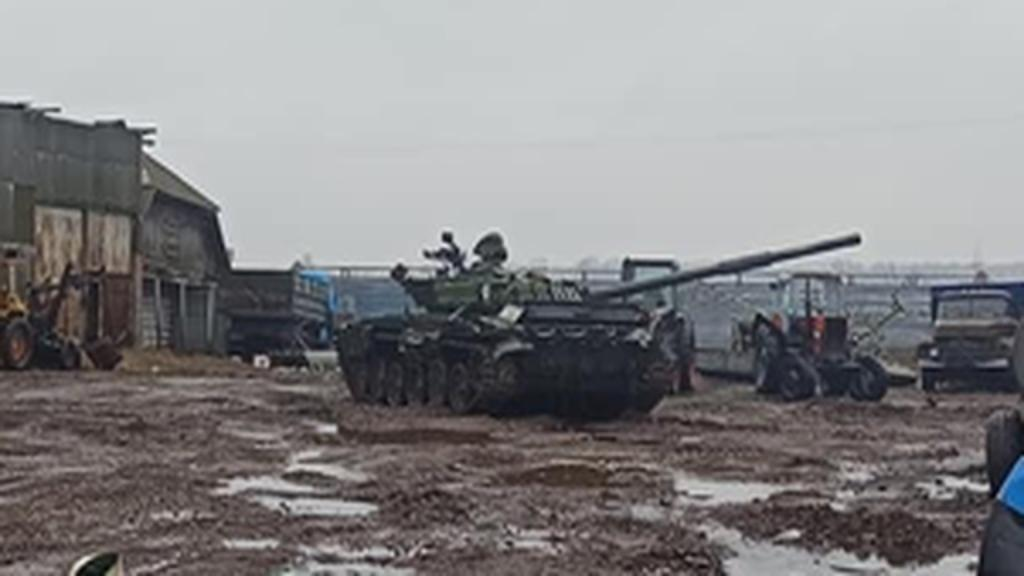TANK: (326, 218, 866, 424)
TRUCK: (912, 274, 1022, 392)
